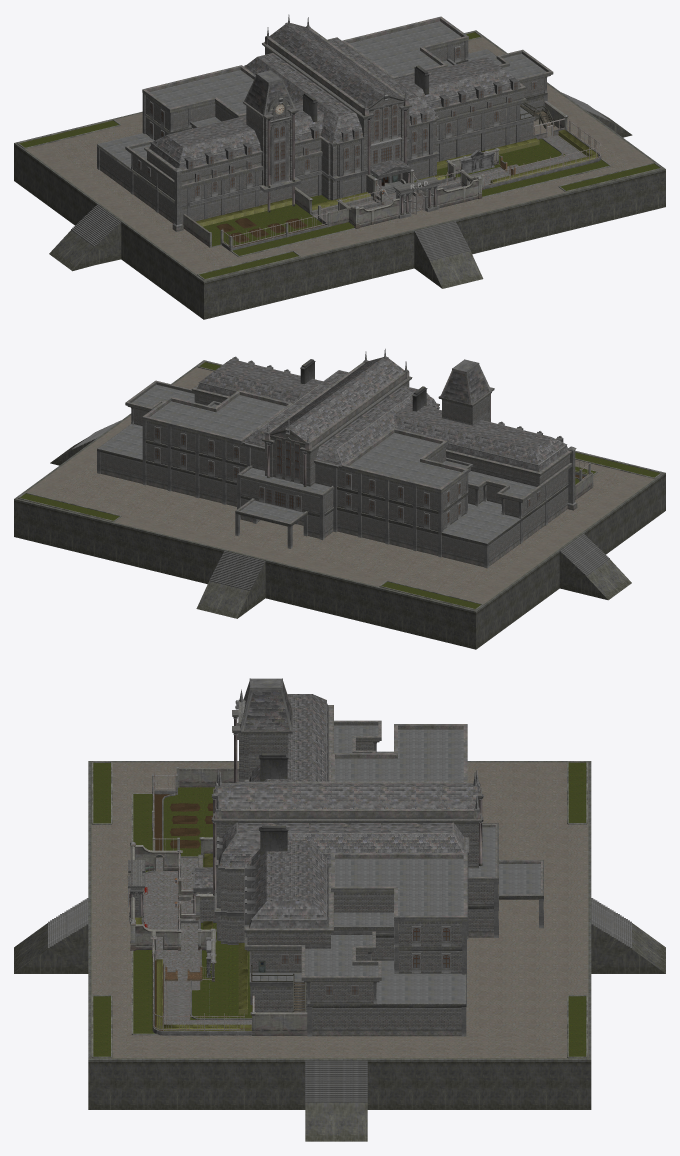
File: EsPoli.fbx
The picture shows the model from 3 angles, top to bottom: view 1: azimuth 30°, elevation 25°; view 2: azimuth 150°, elevation 25°; view 3: azimuth 270°, elevation 25°; orthographic projection. The views are drawn at different scales.
Parts seen in each view (by area): view 1: rpd; view 2: rpd; view 3: rpd.
Part boxes in pixels (box(x1,y1,x2,y2)): rpd: box(14, 14, 665, 319); rpd: box(14, 348, 665, 649); rpd: box(14, 678, 665, 1141).
Bounding box in the file's own units: 18699 × 5163 × 14246.
1 material, 1 textured.
